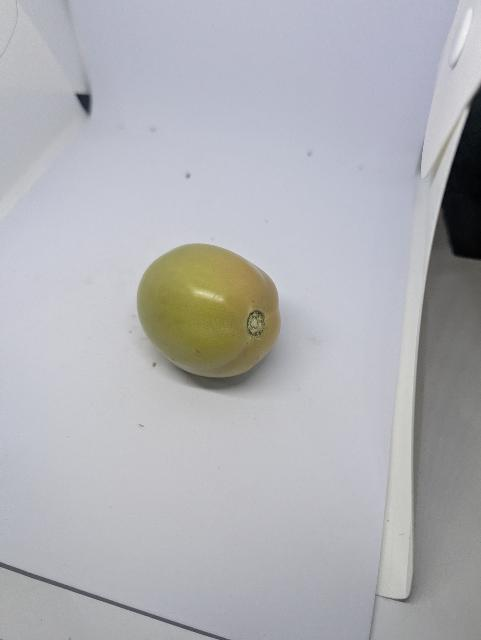breaker: (130, 234, 297, 386)
